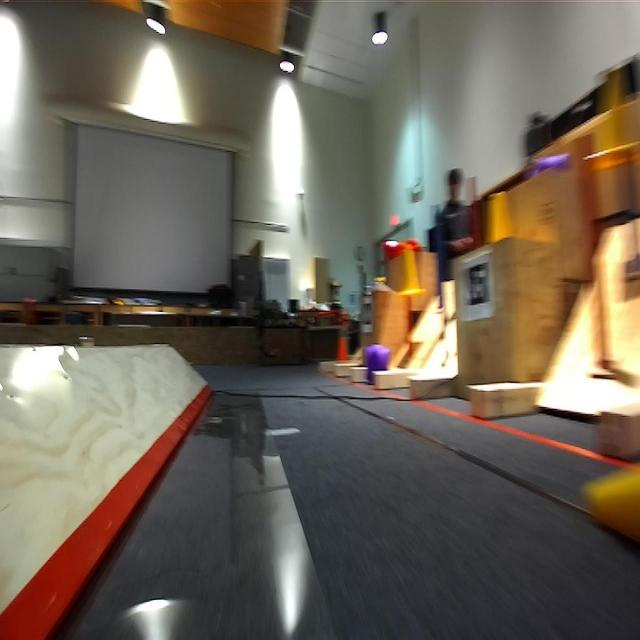frc_cone: (586, 64, 640, 177), (580, 448, 640, 541), (483, 191, 517, 239), (396, 248, 426, 292)
frc_cube: (365, 345, 391, 384), (534, 149, 570, 175)
